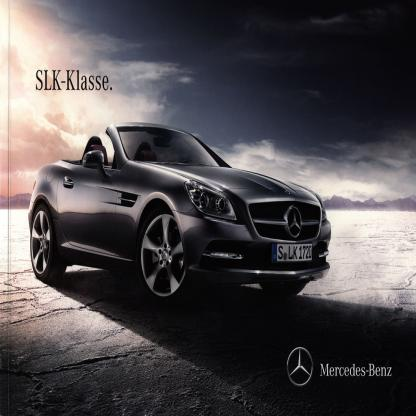Car: (28, 122, 331, 297)
